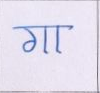aa_matra: (56, 27, 59, 52)
